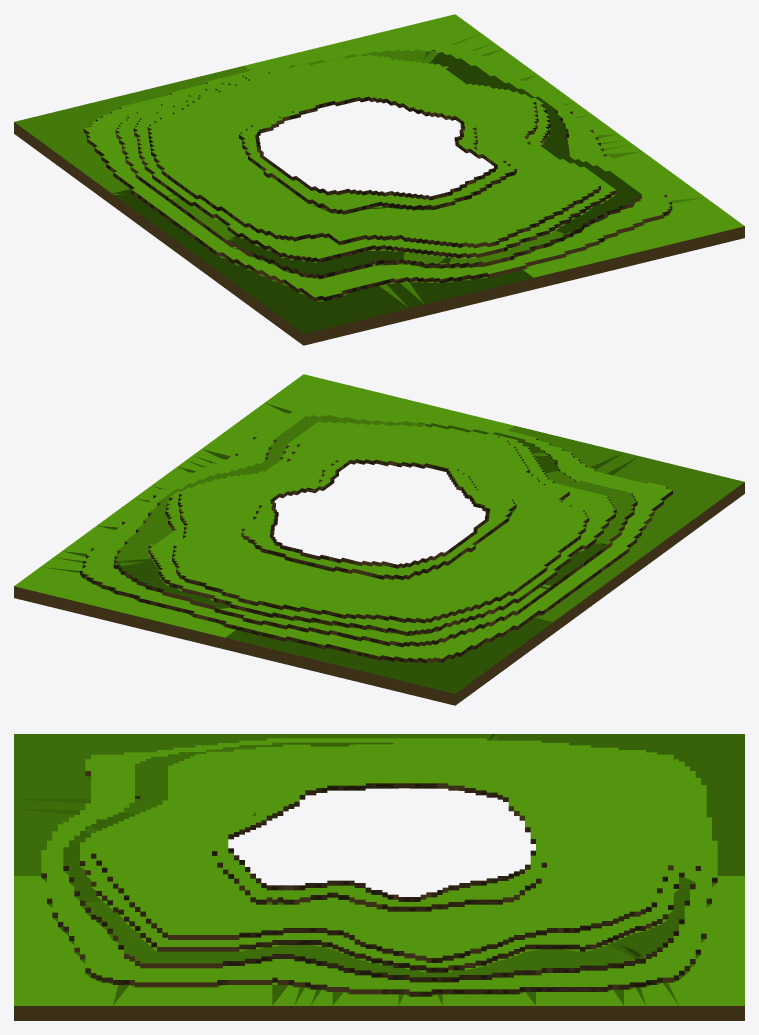
The model's file is PLATEAU.fbx.
3 renders of one model, top to bottom at view 1: azimuth 30°, elevation 25°; view 2: azimuth 150°, elevation 25°; view 3: azimuth 270°, elevation 25°, orthographic. The views are drawn at different scales.
Parts seen in each view (by area): view 1: PLATEAU; view 2: PLATEAU; view 3: PLATEAU.
Part boxes in pixels (left/top/right/bottom): PLATEAU: left=14, top=14, right=744, bottom=345; PLATEAU: left=14, top=374, right=744, bottom=705; PLATEAU: left=14, top=734, right=744, bottom=1020.
Bounding box in the file's own units: 5533 × 426 × 6290.
